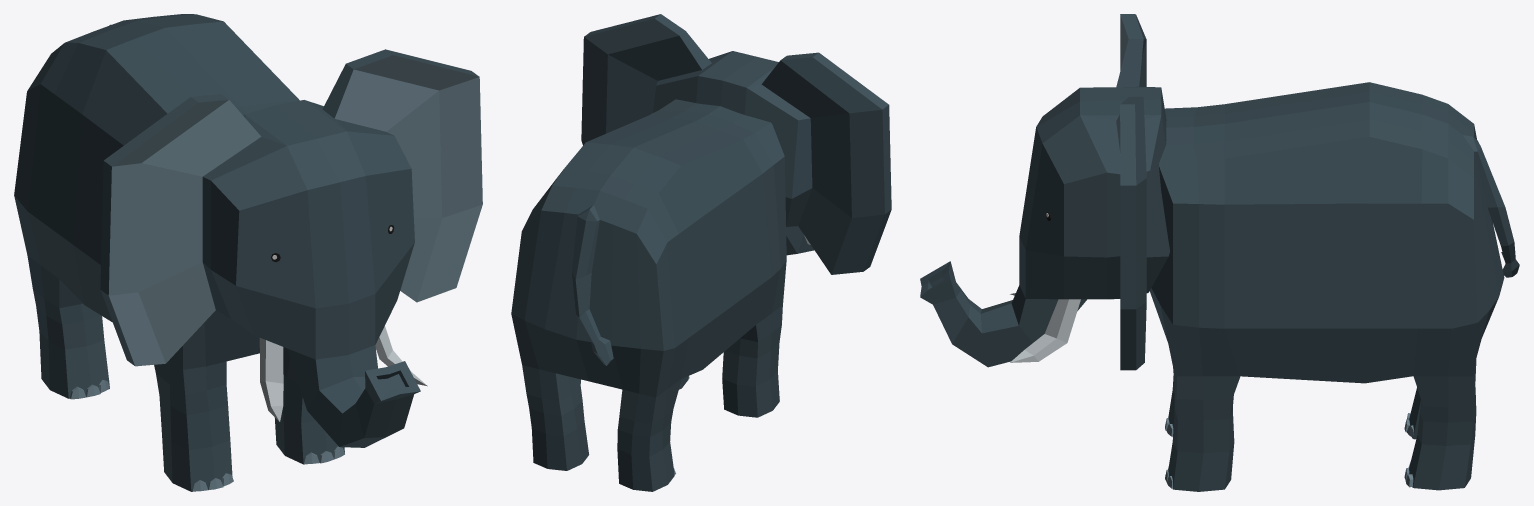
The model's file is Elephant_01.fbx.
3 views of the same model, side by side, from view 1: azimuth 30°, elevation 25°; view 2: azimuth 150°, elevation 25°; view 3: azimuth 270°, elevation 25° (orthographic). The views are drawn at different scales.
Parts seen in each view (by area): view 1: Elephant_01; view 2: Elephant_01; view 3: Elephant_01.
Boxes of the visible parts, x1,y1,x2,y2 form: Elephant_01: (14,14,482,491); Elephant_01: (511,14,891,491); Elephant_01: (920,14,1519,491).
Bounding box in the file's own units: 17.88 × 18.94 × 26.08.
